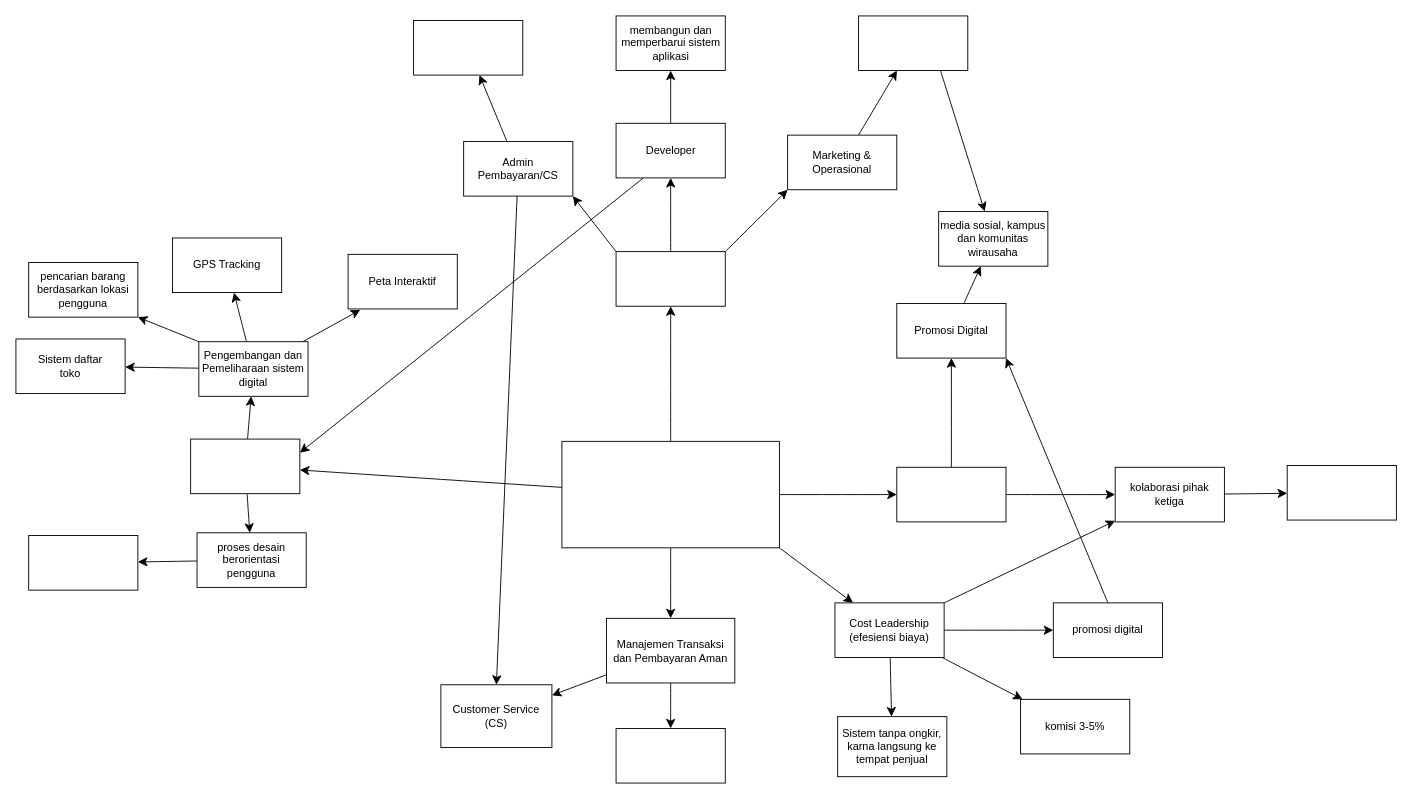
Image size: 1412x799. Some labels were removed from this diagram. Here are the shapes that lost their labels. From the top down, the centre of each, then its label:
At (468,47): "Mengelola transaksi dan menangani keluhan pengguna".
At (913,43): "memverifikasi penjual dan melakukan promosi".
At (670,278): "Manajemen SDM dan Operasional Harian".
At (245,466): "Product & Process Design".
At (670,494): "Strategi NearBuy Keunggulan".
At (951,494): "Pemasaran Digital dan Kemitraan Lokal".
At (1341,492): "ojek online".
At (83,562): "tampilan aplikasi yang mudah dipahami semua kalangan".
At (670,755): "Sistem pembayaran terpusat (escrow)".
